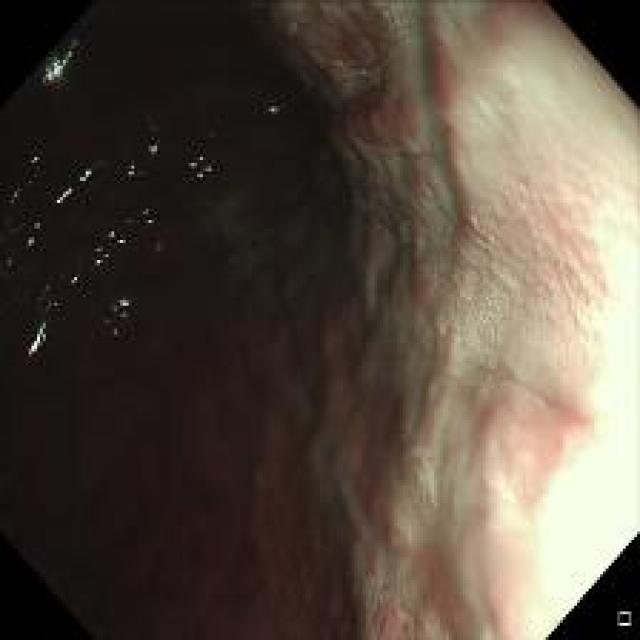color misalignment: (38, 48, 74, 86), (186, 154, 211, 182), (54, 184, 75, 205), (145, 139, 158, 154), (266, 101, 281, 114)
contrast: (2, 8, 384, 615)
saturation: (544, 272, 629, 598)
specularity: (21, 166, 94, 245), (72, 211, 155, 280), (120, 126, 165, 181), (39, 45, 84, 96), (20, 296, 56, 349), (108, 286, 144, 335), (9, 150, 36, 196), (181, 152, 216, 186), (262, 100, 281, 116)
